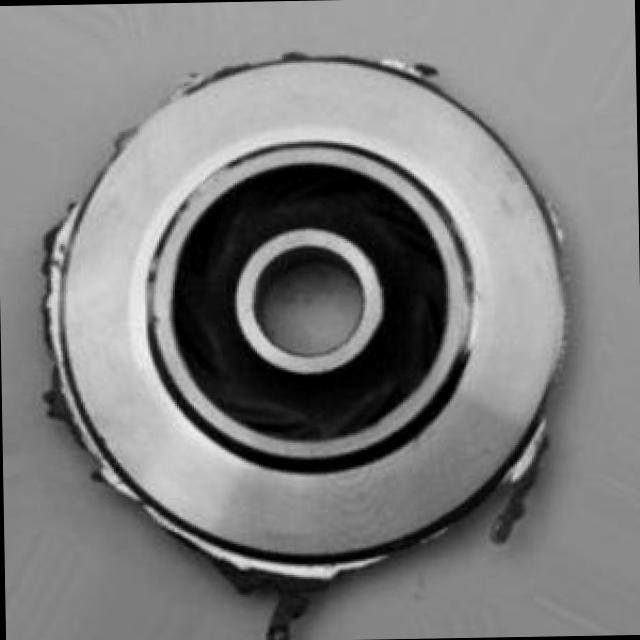Defect: (508, 422, 546, 515)
